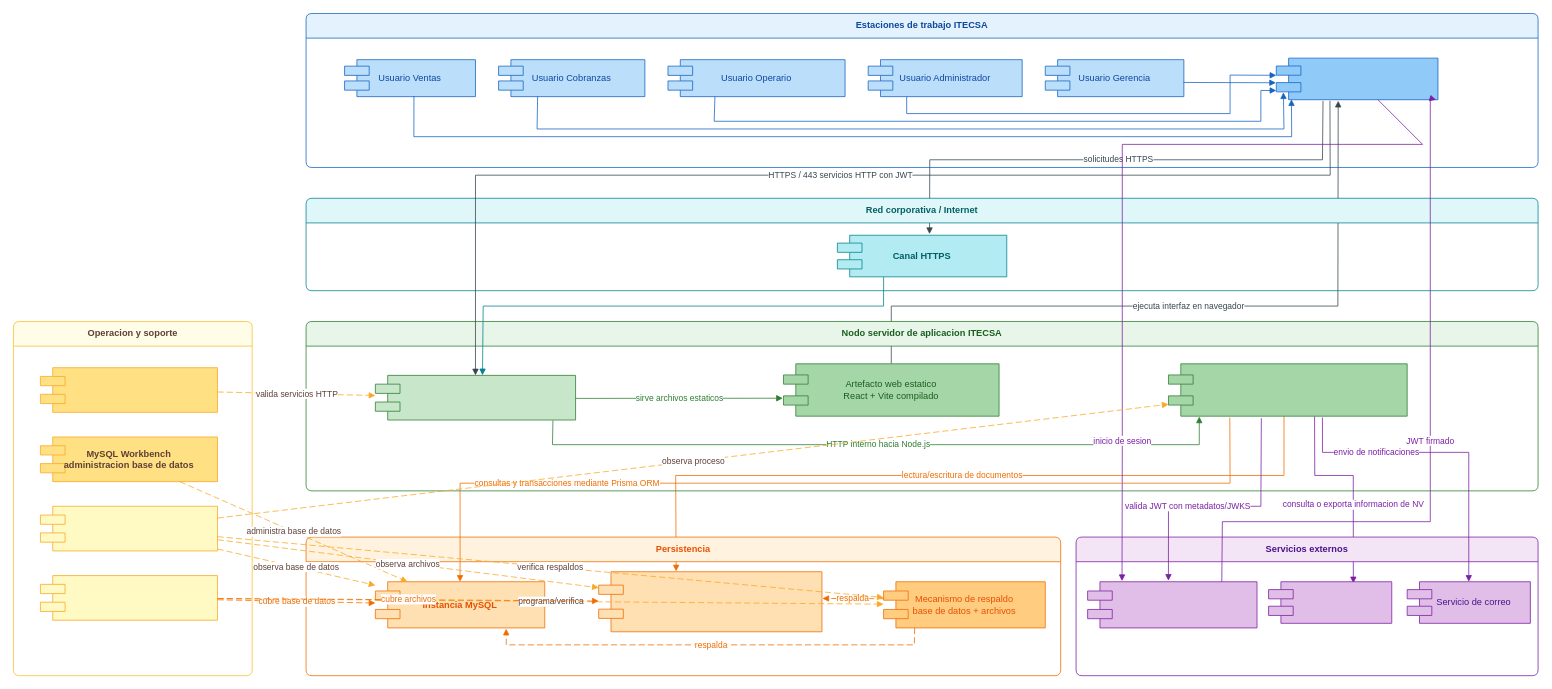
Some shapes in this 1552 by 689 pixel diagram are drawn without their labels. Each missing label, with the centre of its shape:
Caddy Proxy inverso HTTPS: pixel 475 397
Manager / ERP: pixel 1330 602
Monitoreo basico / registros: pixel 129 528
Navegador web: pixel 1357 78
Postman pruebas servicios HTTP: pixel 129 389
Proceso de aplicacion Node.js Express + Prisma ORM: pixel 1287 389
Repositorio persistente de archivos adjuntos, firmas y disenos: pixel 710 601
Respaldos verificables base de datos + archivos: pixel 129 597
Tenant Auth0 Identidad, JWT y JWKS: pixel 1172 604
